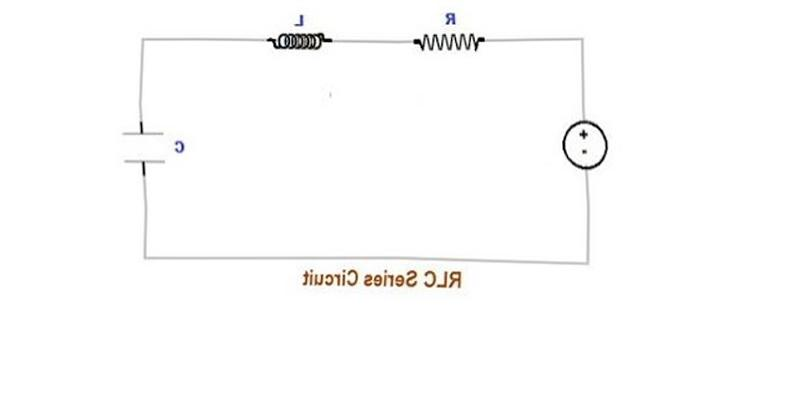Battery: (541, 105, 625, 190)
